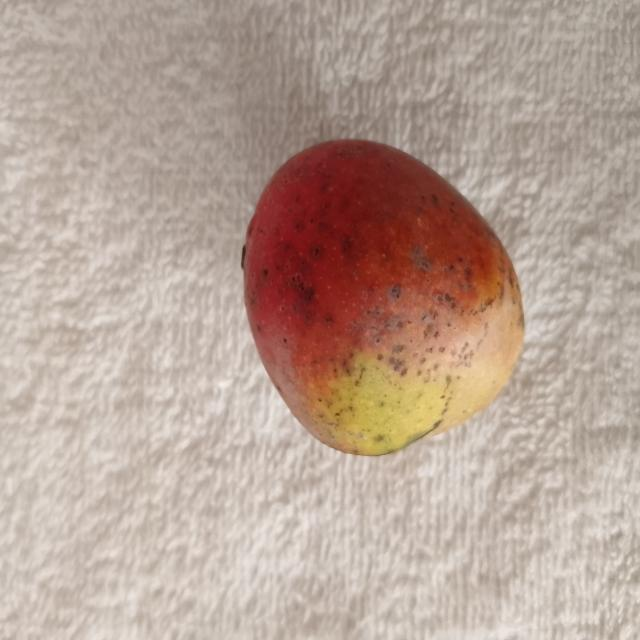mango: (243, 140, 524, 454)
